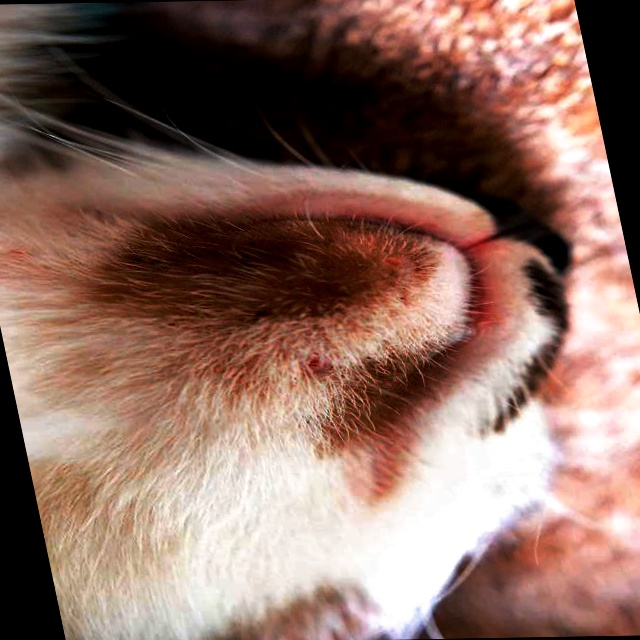acne: (105, 215, 353, 343)
